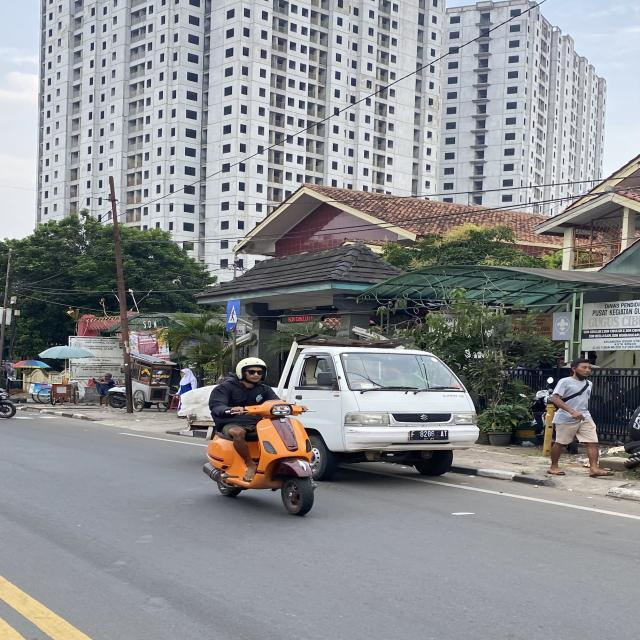Helmet: (236, 357, 266, 379)
Number Plate: (409, 429, 448, 440)
Rearview Mirror: (316, 372, 336, 387), (546, 377, 553, 384)
